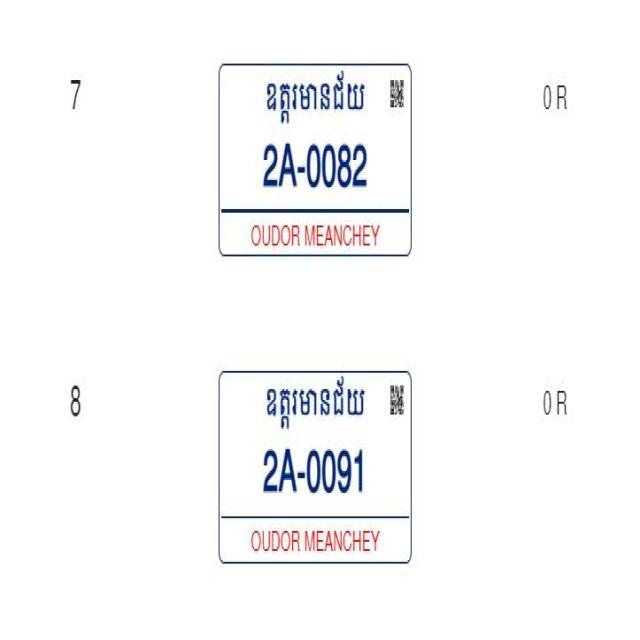Oudor_Meanchey: (265, 68, 366, 129), (262, 371, 366, 426)
